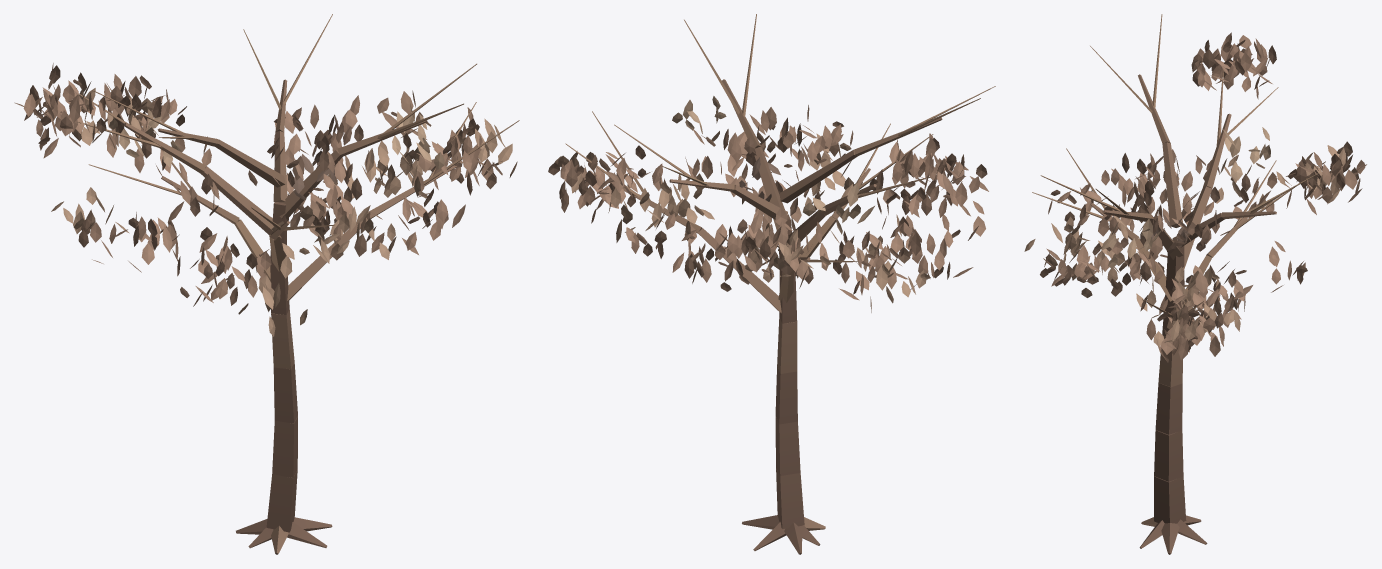
The model's file is tree_3d_03_copper.glb.
3 views of the same model, side by side, from view 1: azimuth 30°, elevation 25°; view 2: azimuth 150°, elevation 25°; view 3: azimuth 270°, elevation 25° (orthographic). The views are drawn at different scales.
Visible parts, largest first — view 1: tree_3d_03_copper_foliage, tree_3d_03_copper_wood; view 2: tree_3d_03_copper_foliage, tree_3d_03_copper_wood; view 3: tree_3d_03_copper_foliage, tree_3d_03_copper_wood.
Part boxes in pixels (x1=…): tree_3d_03_copper_foliage: x1=14, y1=63, x2=517, y2=336; tree_3d_03_copper_wood: x1=77, y1=14, x2=519, y2=554; tree_3d_03_copper_foliage: x1=548, y1=96, x2=988, y2=312; tree_3d_03_copper_wood: x1=565, y1=14, x2=995, y2=554; tree_3d_03_copper_foliage: x1=1024, y1=32, x2=1366, y2=362; tree_3d_03_copper_wood: x1=1032, y1=14, x2=1318, y2=554.
Bounding box in the file's own units: 10 × 10.5 × 7.4.
